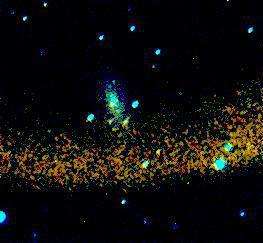star: (96, 66, 126, 96)
